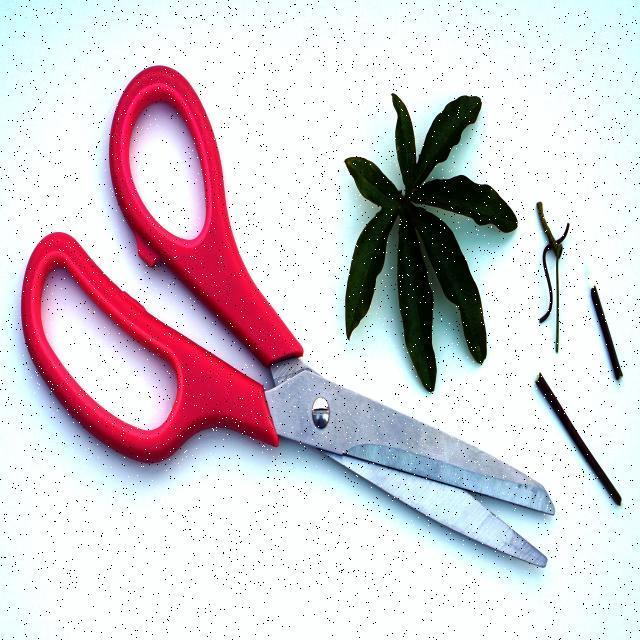scissors: (6, 42, 562, 614)
